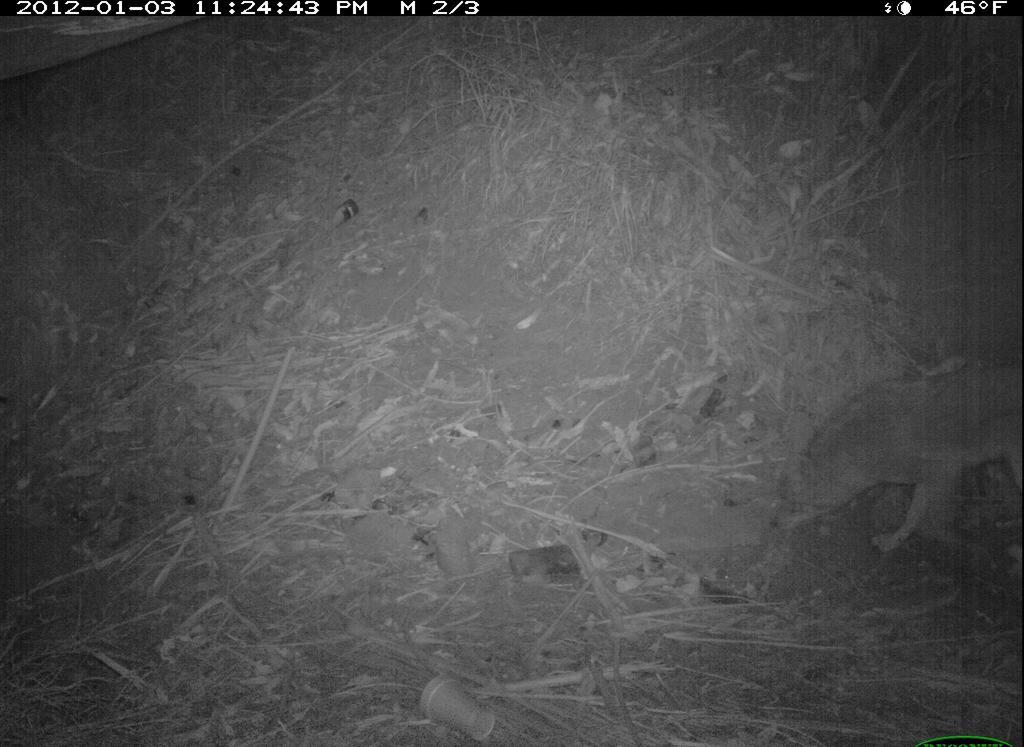coyote: (767, 367, 1023, 578)
